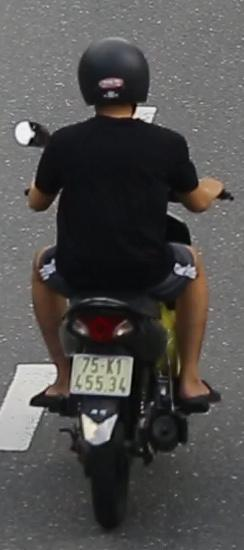LP: (68, 349, 135, 398)
helmet: (73, 33, 153, 126)
